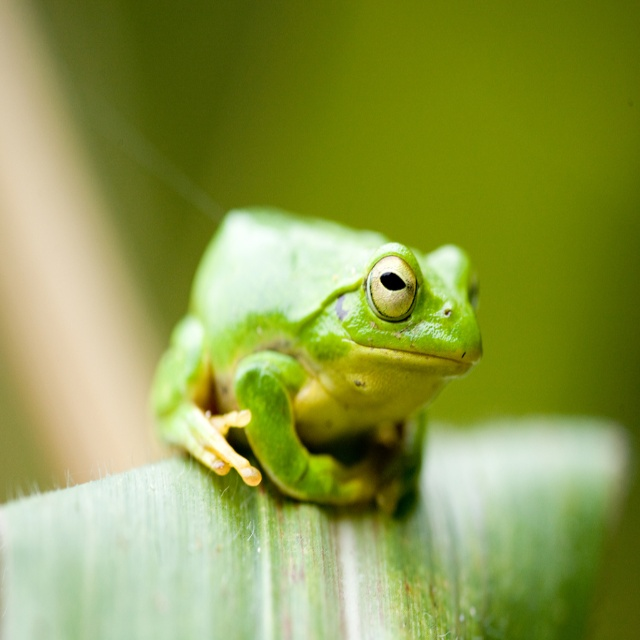Frog: (148, 204, 483, 505)
